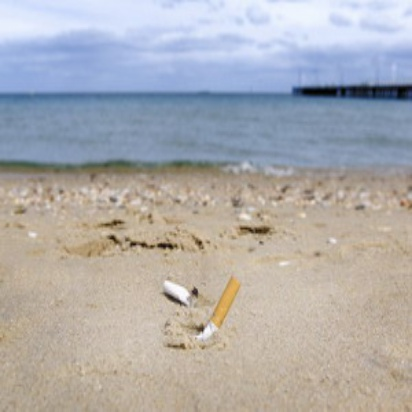cigarette: (198, 271, 248, 346)
